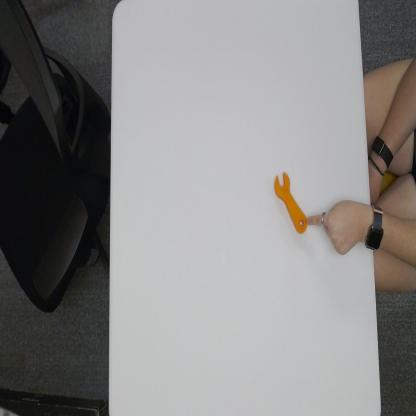Hand: (307, 198, 365, 256)
Screwdriver: (273, 171, 309, 236)
